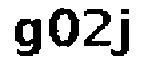0: (46, 5, 81, 51)
2: (82, 7, 114, 48)
g: (8, 15, 44, 58)
j: (112, 6, 132, 60)
